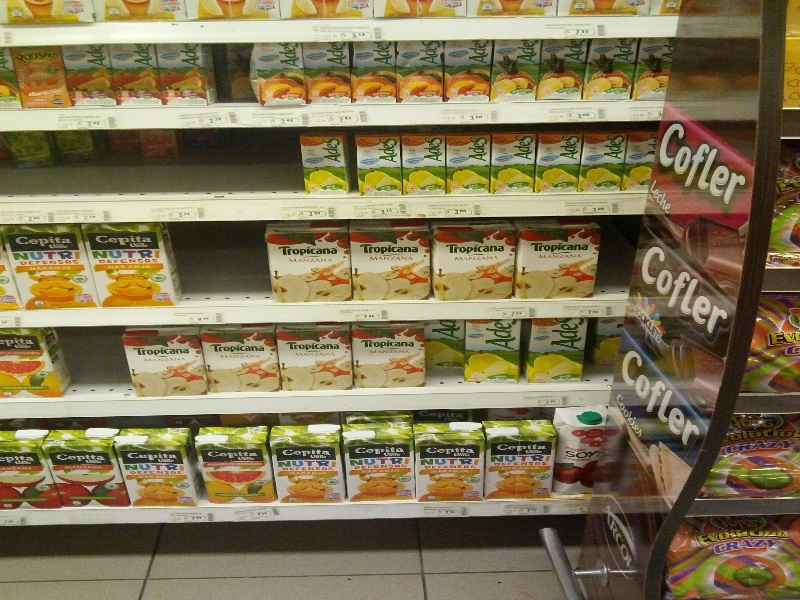juice: (40, 430, 133, 512), (427, 218, 517, 299), (512, 219, 602, 299), (266, 221, 354, 302), (114, 430, 204, 508), (268, 422, 348, 506), (338, 421, 417, 504), (119, 328, 210, 400), (189, 426, 277, 500), (412, 420, 487, 505), (483, 417, 556, 504), (351, 225, 435, 300), (200, 326, 285, 393), (1, 430, 70, 508), (551, 408, 602, 501)
